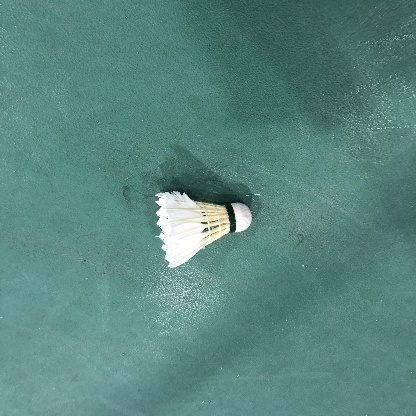ball_single: (156, 191, 252, 269)
